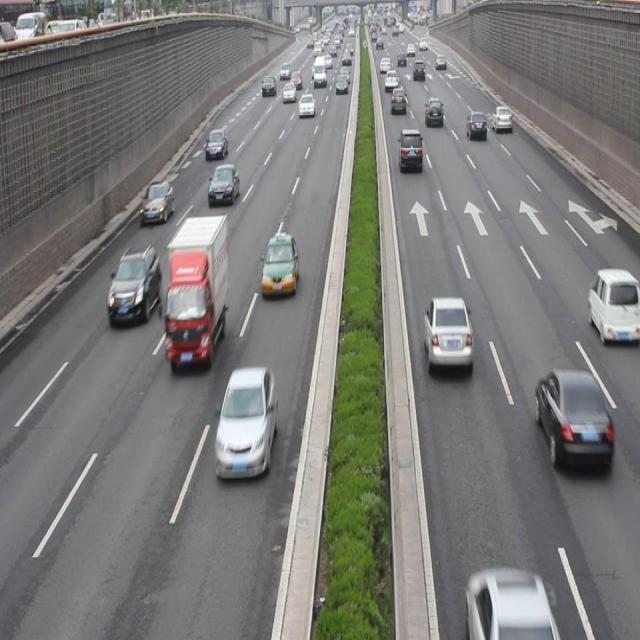bus: (165, 215, 226, 368)
car: (536, 367, 612, 472), (216, 366, 276, 476), (105, 246, 162, 322), (586, 266, 640, 341), (422, 294, 471, 370), (258, 233, 299, 297), (207, 163, 240, 209), (141, 180, 174, 225), (398, 126, 422, 175), (425, 95, 444, 130), (466, 110, 486, 142), (205, 129, 227, 158), (491, 104, 512, 134)
